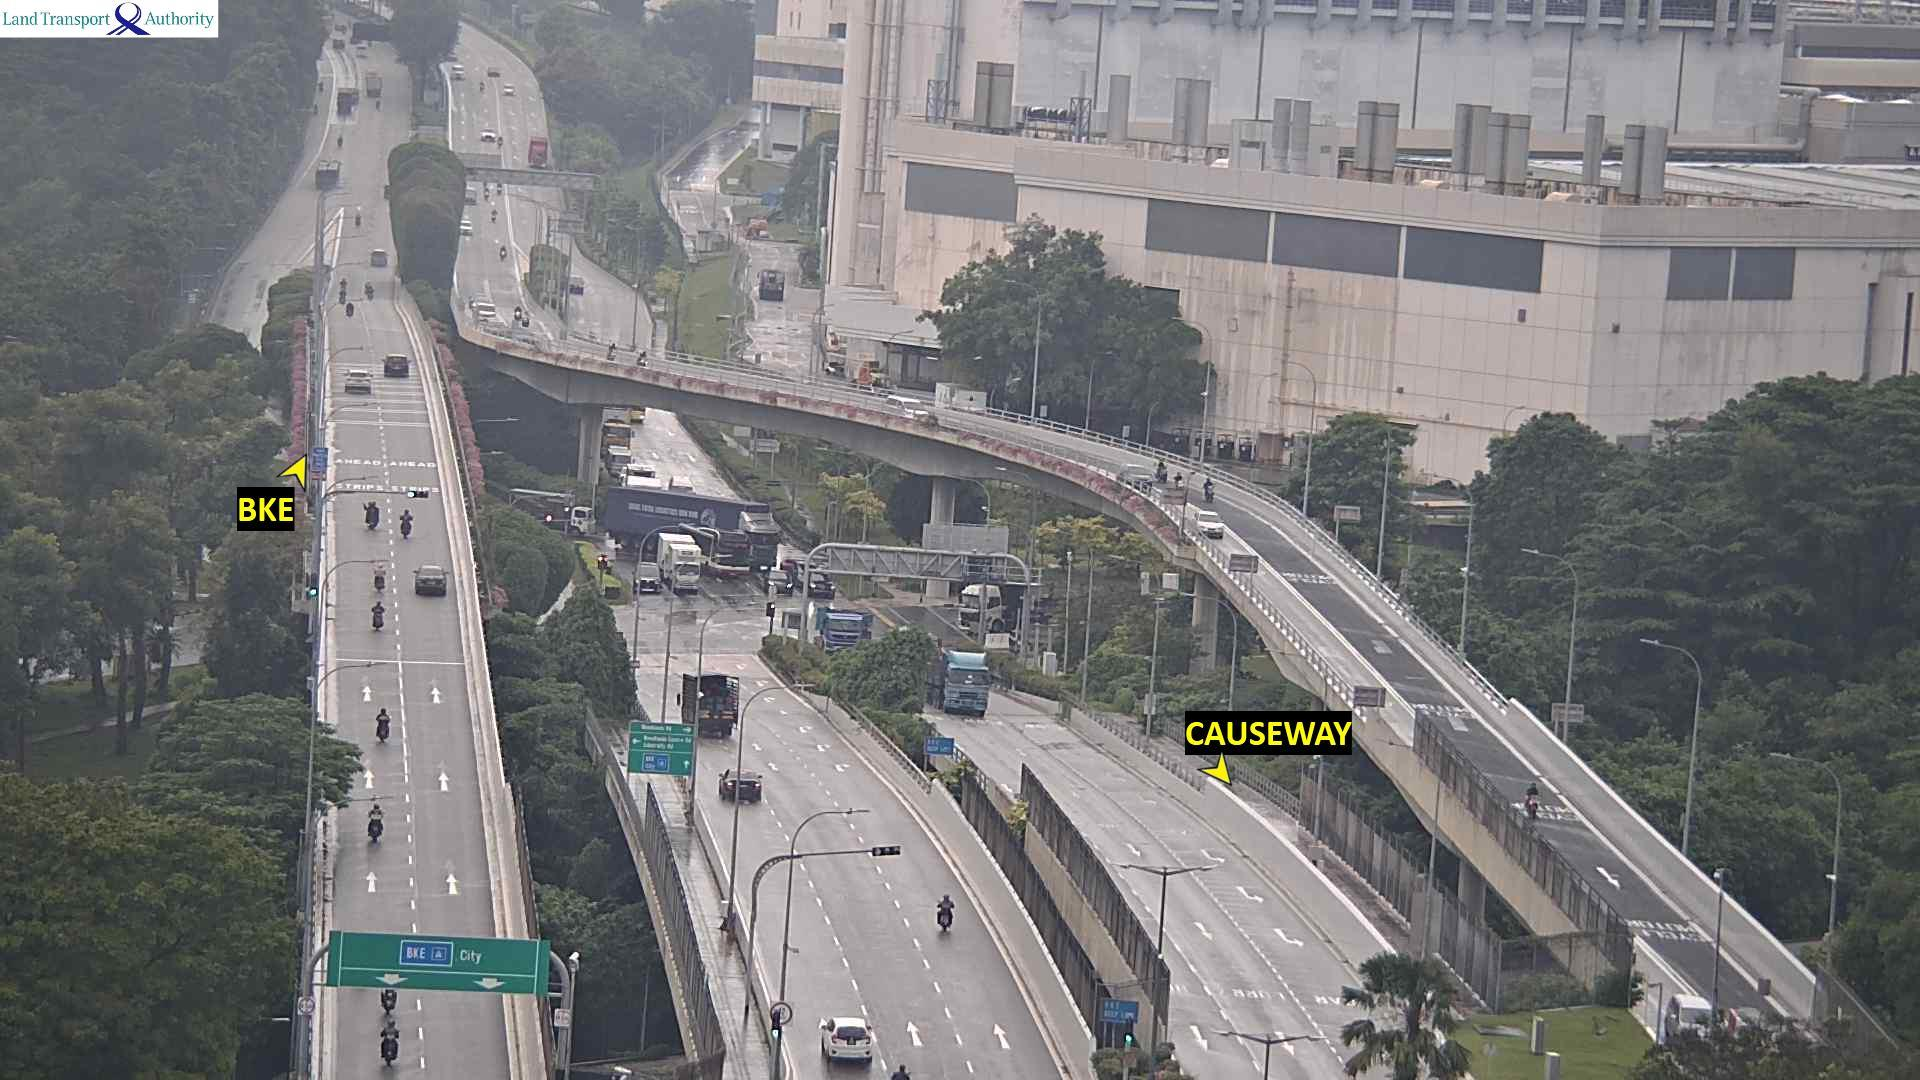vehicle-causeway-johor: (934, 649, 997, 714), (885, 394, 933, 424), (1672, 997, 1706, 1037), (1194, 512, 1224, 538), (1118, 464, 1150, 488), (1528, 778, 1540, 819), (475, 305, 495, 322), (1157, 460, 1167, 482), (463, 187, 475, 204), (496, 244, 509, 259), (1176, 473, 1186, 492), (1207, 481, 1215, 502), (460, 221, 471, 235), (638, 350, 647, 365), (516, 310, 524, 326), (611, 349, 619, 363), (491, 208, 497, 220)
vehicle-causeway-singapore: (683, 672, 736, 737), (824, 1021, 879, 1069), (725, 772, 760, 806), (416, 572, 448, 600), (935, 891, 955, 929), (382, 1023, 401, 1059), (346, 368, 370, 394), (383, 1040, 400, 1072), (388, 354, 408, 378), (376, 709, 390, 743), (384, 992, 400, 1020), (374, 563, 388, 591), (373, 603, 385, 633), (405, 512, 420, 530), (366, 814, 375, 844), (372, 250, 388, 266), (410, 488, 430, 499), (889, 1066, 904, 1080), (364, 506, 372, 532), (347, 302, 355, 316), (367, 288, 374, 301)
